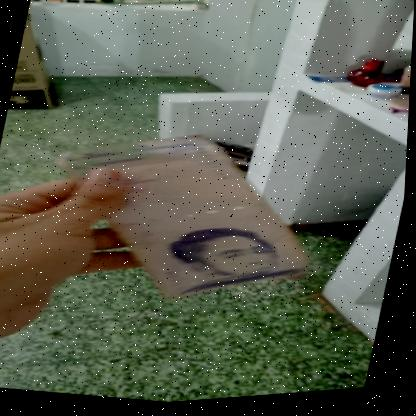ten-front-vef: (33, 109, 336, 332)
